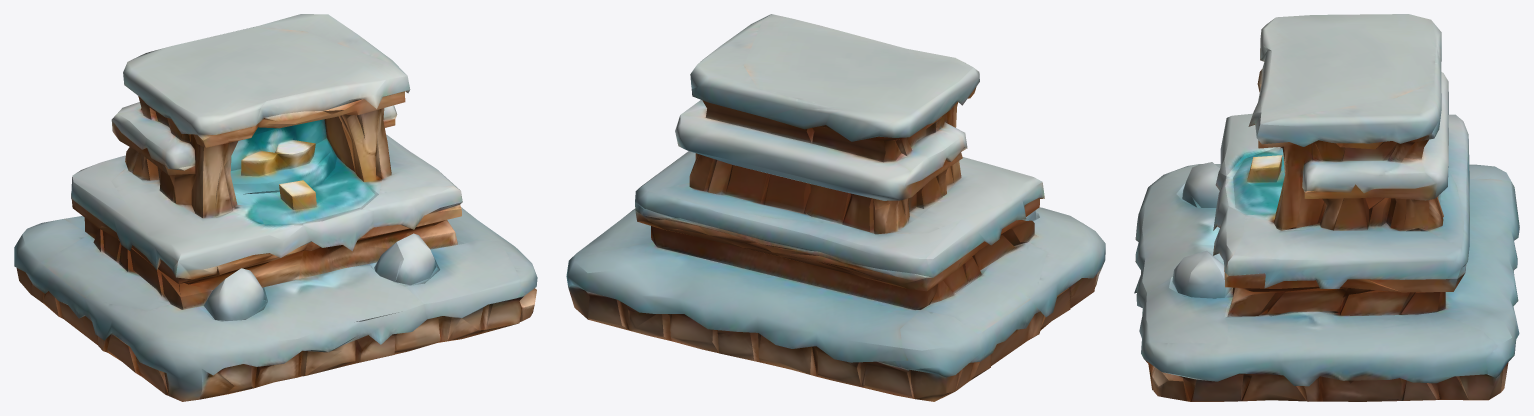
Rendered from m2SnowLedge.glb.
The picture shows the model from 3 angles, left to right: view 1: azimuth 30°, elevation 25°; view 2: azimuth 150°, elevation 25°; view 3: azimuth 270°, elevation 25°; orthographic projection. The views are drawn at different scales.
Visible parts, largest first — view 1: model; view 2: model; view 3: model.
Part boxes in pixels (x1,y1,x2,y2): model: [14, 14, 537, 401]; model: [566, 14, 1105, 401]; model: [1134, 14, 1519, 401].
Bounding box in the file's own units: 1.9 × 1.12 × 1.58.
1 material, 1 textured.
